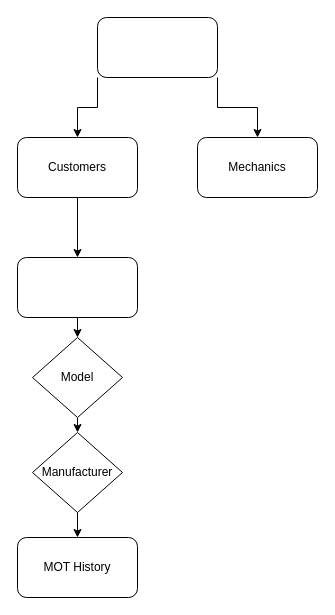
Image size: 335x615. Some labels were removed from this diagram. The centre of each missing label's shape, as x and y in pixels:
"Garage" belongs at (x=157, y=47).
"Vehicles" belongs at (x=77, y=287).
